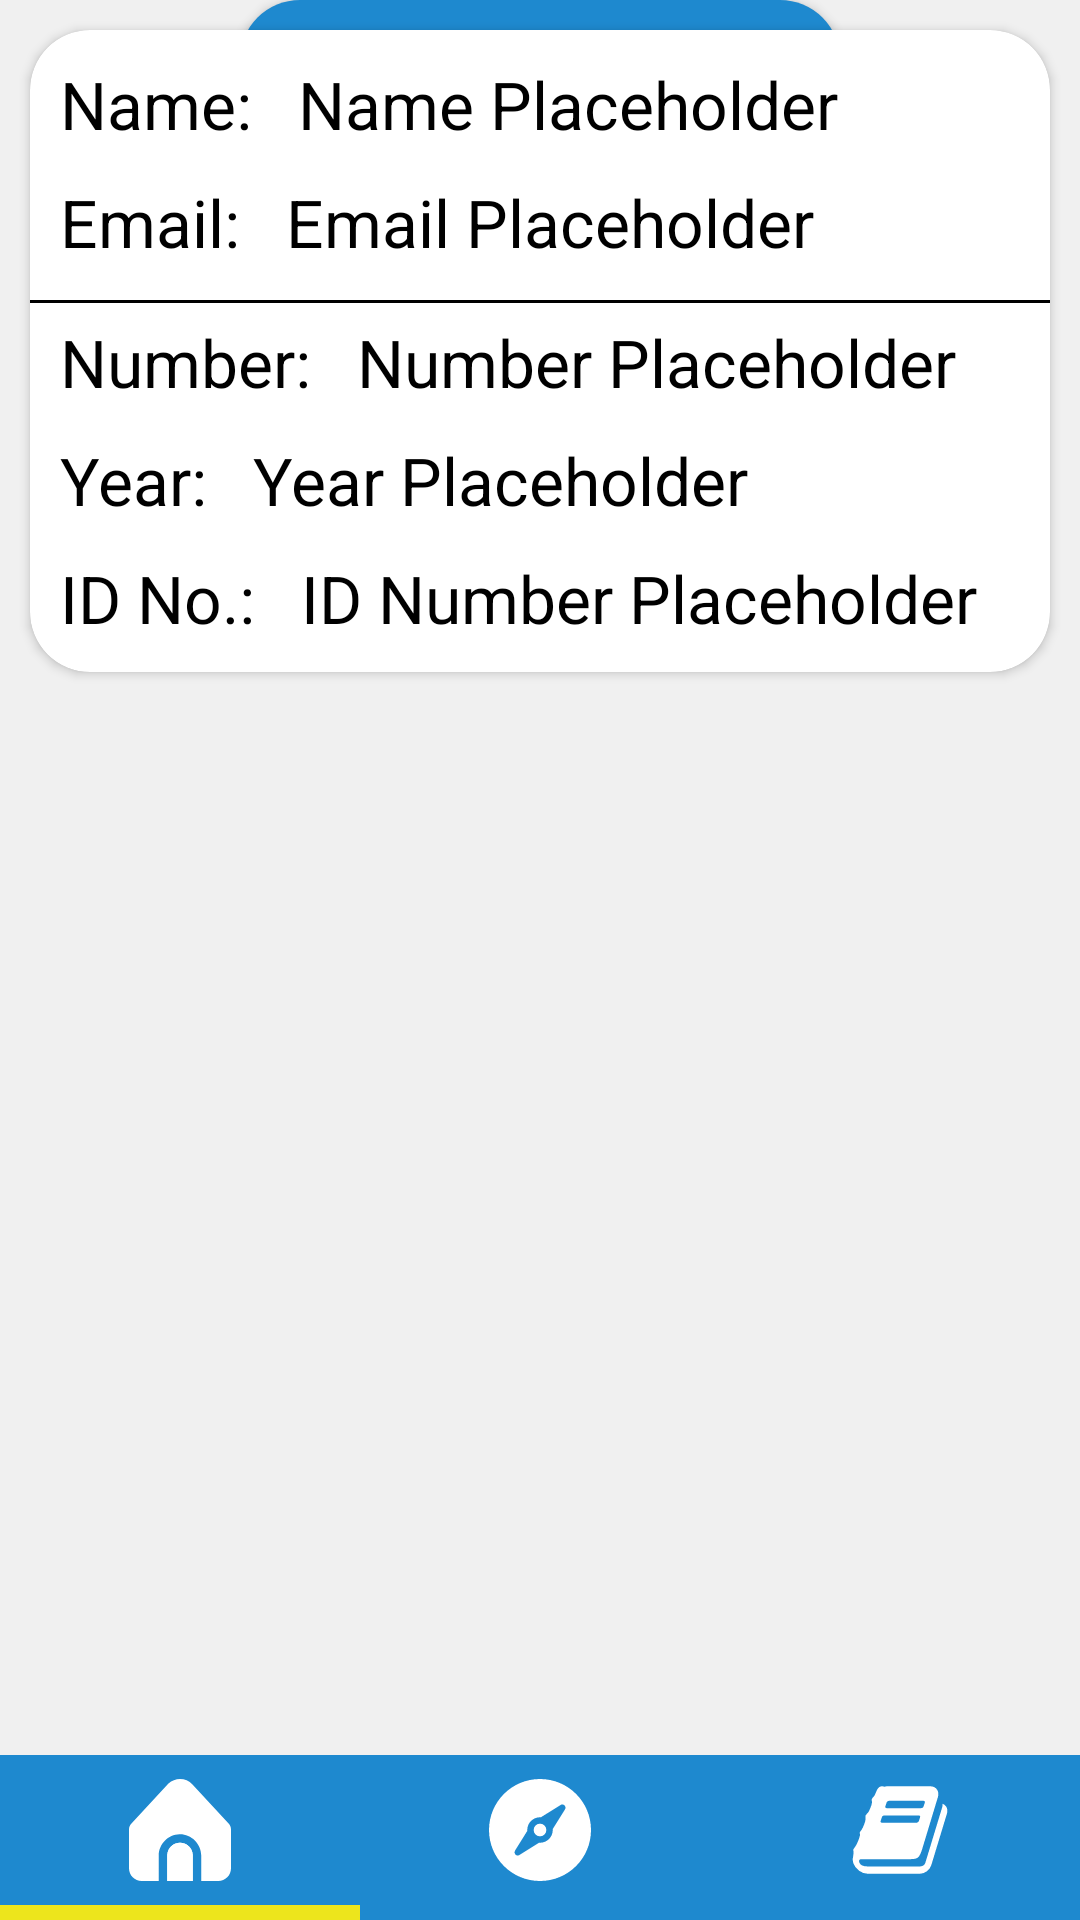

Screen size 1080px x 1920px. Icon name, then its center in pixels as (x=x, y=y):
book: (x=900, y=1830)
compass: (x=540, y=1830)
